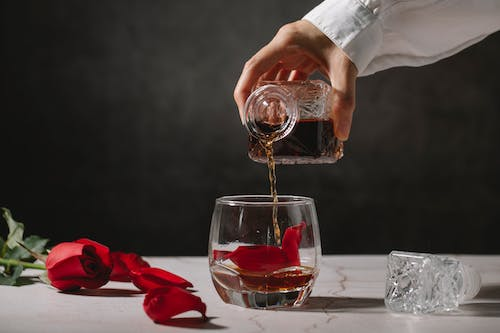alcohol: (207, 195, 323, 309), (241, 79, 345, 165)
